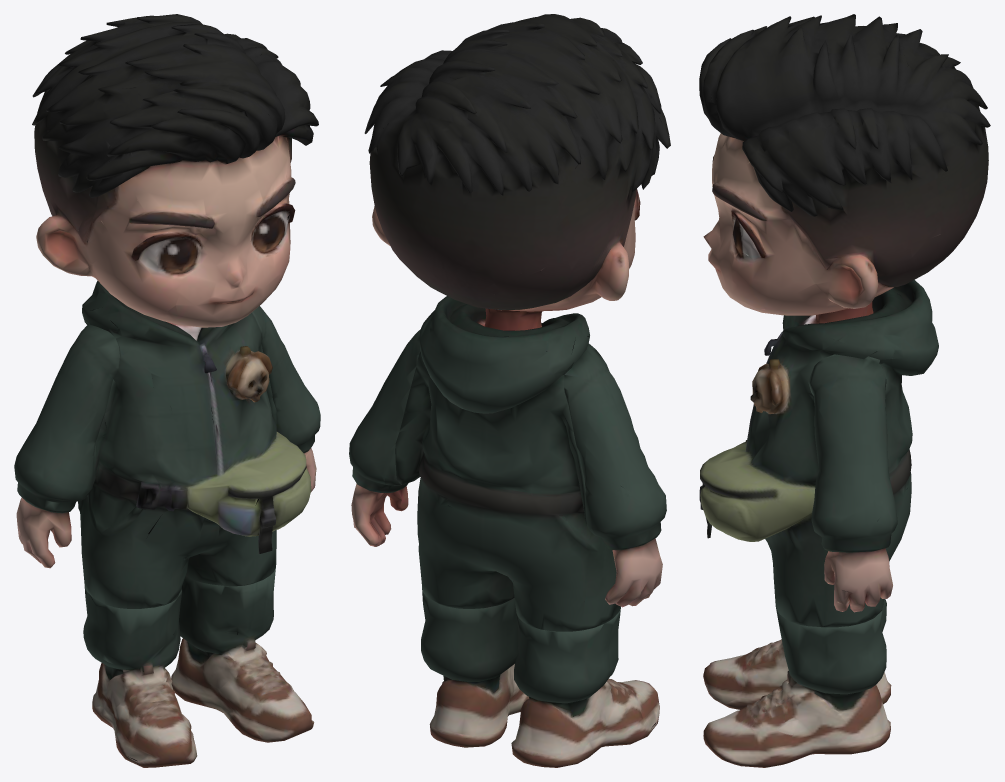
The model's file is man_2_parts_rig_backup.glb.
The picture shows the model from 3 angles, left to right: view 1: azimuth 30°, elevation 25°; view 2: azimuth 150°, elevation 25°; view 3: azimuth 270°, elevation 25°; orthographic projection. The views are drawn at different scales.
Visible parts, largest first — view 1: torso, leg_left, arm_right, leg_right, arm_left; view 2: torso, leg_right, arm_right, leg_left, arm_left; view 3: torso, arm_left, leg_left, leg_right.
Part boxes in pixels (x1=…): torso: x1=32, y1=14, x2=318, y2=608; leg_left: x1=171, y1=567, x2=314, y2=742; arm_right: x1=14, y1=316, x2=119, y2=568; leg_right: x1=83, y1=587, x2=197, y2=767; arm_left: x1=251, y1=306, x2=320, y2=491; torso: x1=364, y1=14, x2=670, y2=631; leg_right: x1=511, y1=607, x2=659, y2=767; arm_right: x1=556, y1=348, x2=666, y2=607; leg_left: x1=421, y1=589, x2=529, y2=747; arm_left: x1=349, y1=329, x2=420, y2=546; torso: x1=699, y1=14, x2=990, y2=627; arm_left: x1=808, y1=354, x2=897, y2=612; leg_left: x1=703, y1=608, x2=890, y2=767; leg_right: x1=703, y1=599, x2=891, y2=709.
Size of the model in its own units: 0.446 by 1 by 0.3797.
Materials: 1 (1 with a texture image).
